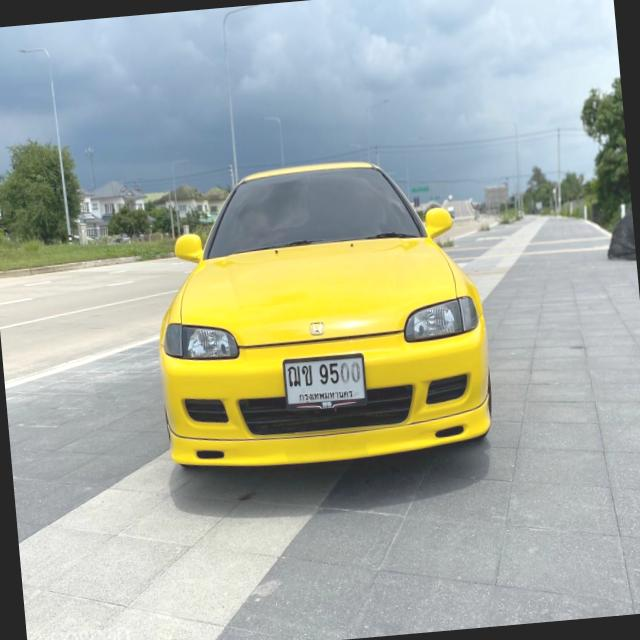license_plate: (281, 350, 370, 412)
